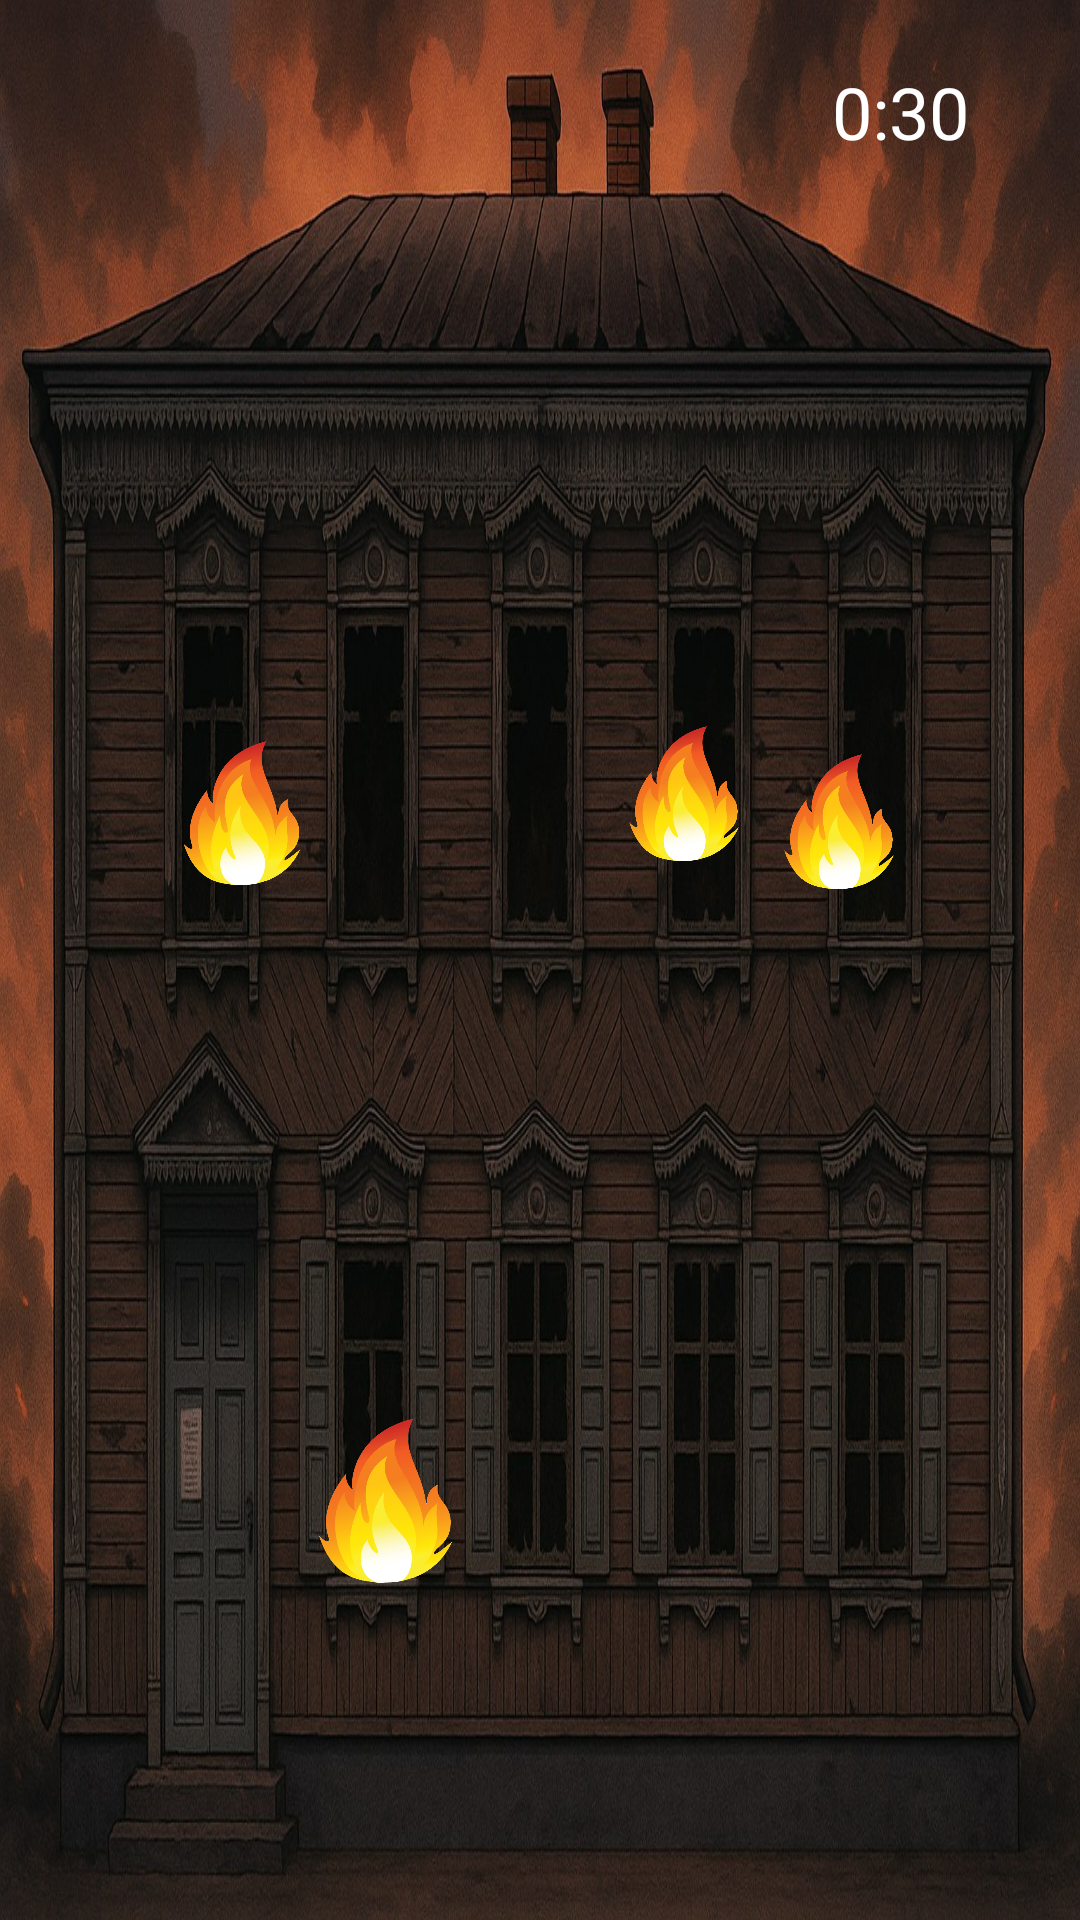

Locate icon controls on the screen. Image size 1080w x 1920h, boxes as (x1, y1, x2, y2).
Fire 1: (146, 704, 338, 923)
